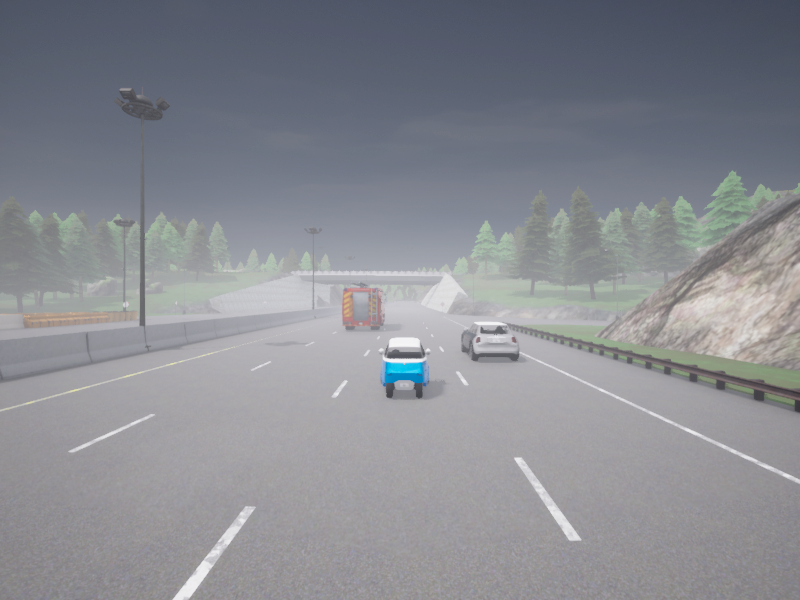vehicle: (379, 338, 430, 397), (461, 322, 519, 360), (342, 282, 386, 329)
